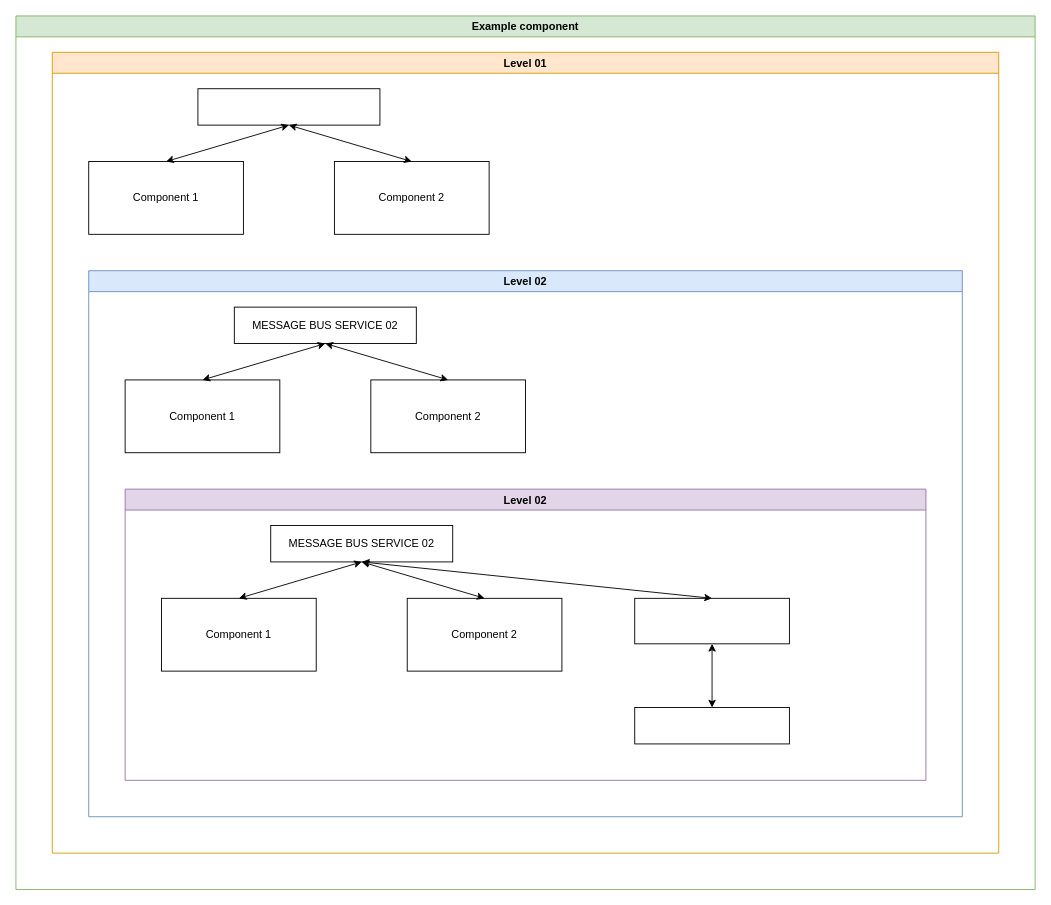
This 1051x905 diagram has some shape labels left out. The shapes that lost their labels are listed below. From the top down, each one's centre as x and y in pixels, then its label:
point (288, 106): MESSAGE BUS SERVICE 01
point (711, 620): router-outlet
point (711, 725): Component 3
